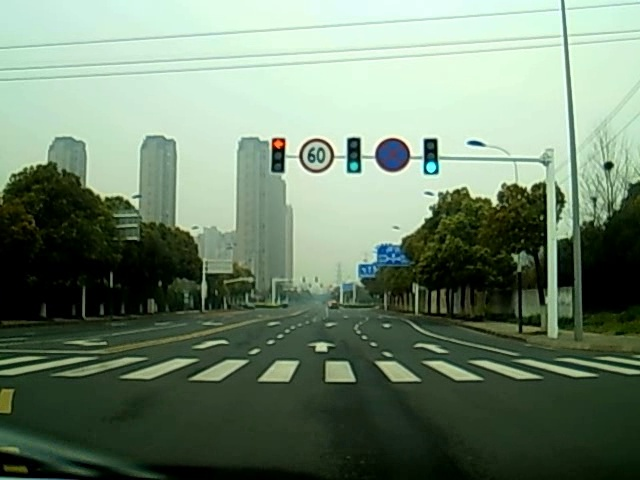Traffic_Light_go: (423, 139, 439, 175), (347, 138, 361, 173)
Traffic_Light_stop: (272, 137, 286, 175)
